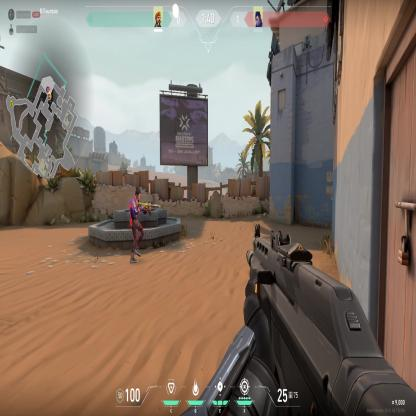enemy: (128, 185, 144, 267)
